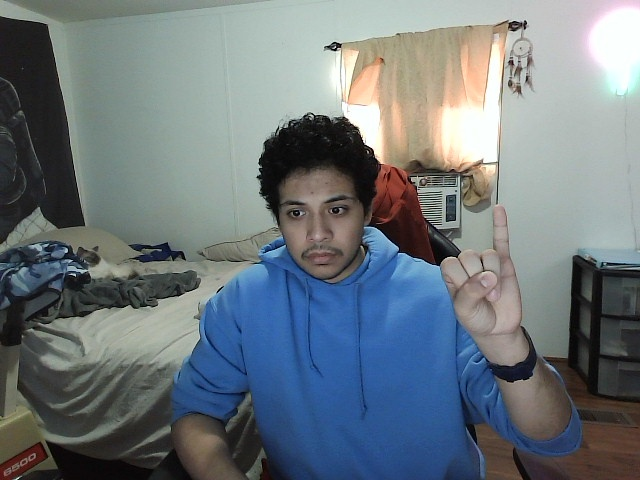I: (435, 201, 530, 336)
